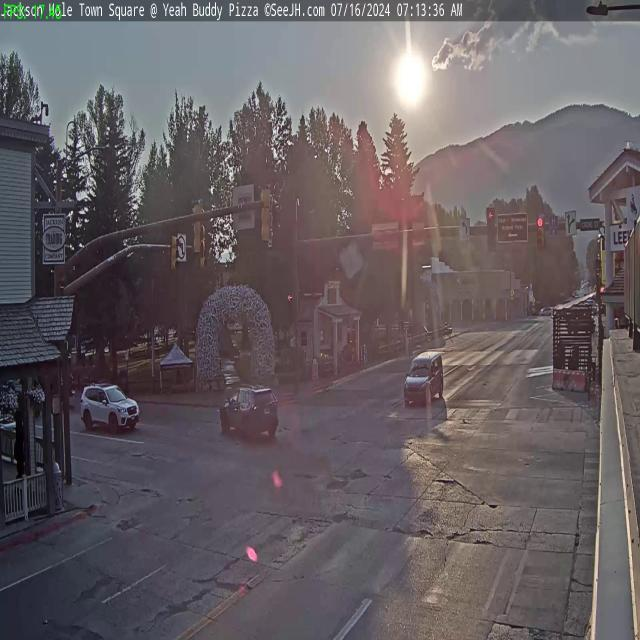suv: (218, 386, 278, 444), (81, 381, 140, 436)
traffic light: (190, 199, 204, 257), (260, 184, 273, 243), (486, 207, 497, 252), (170, 233, 181, 274), (536, 214, 546, 248)
van: (404, 348, 446, 408)
